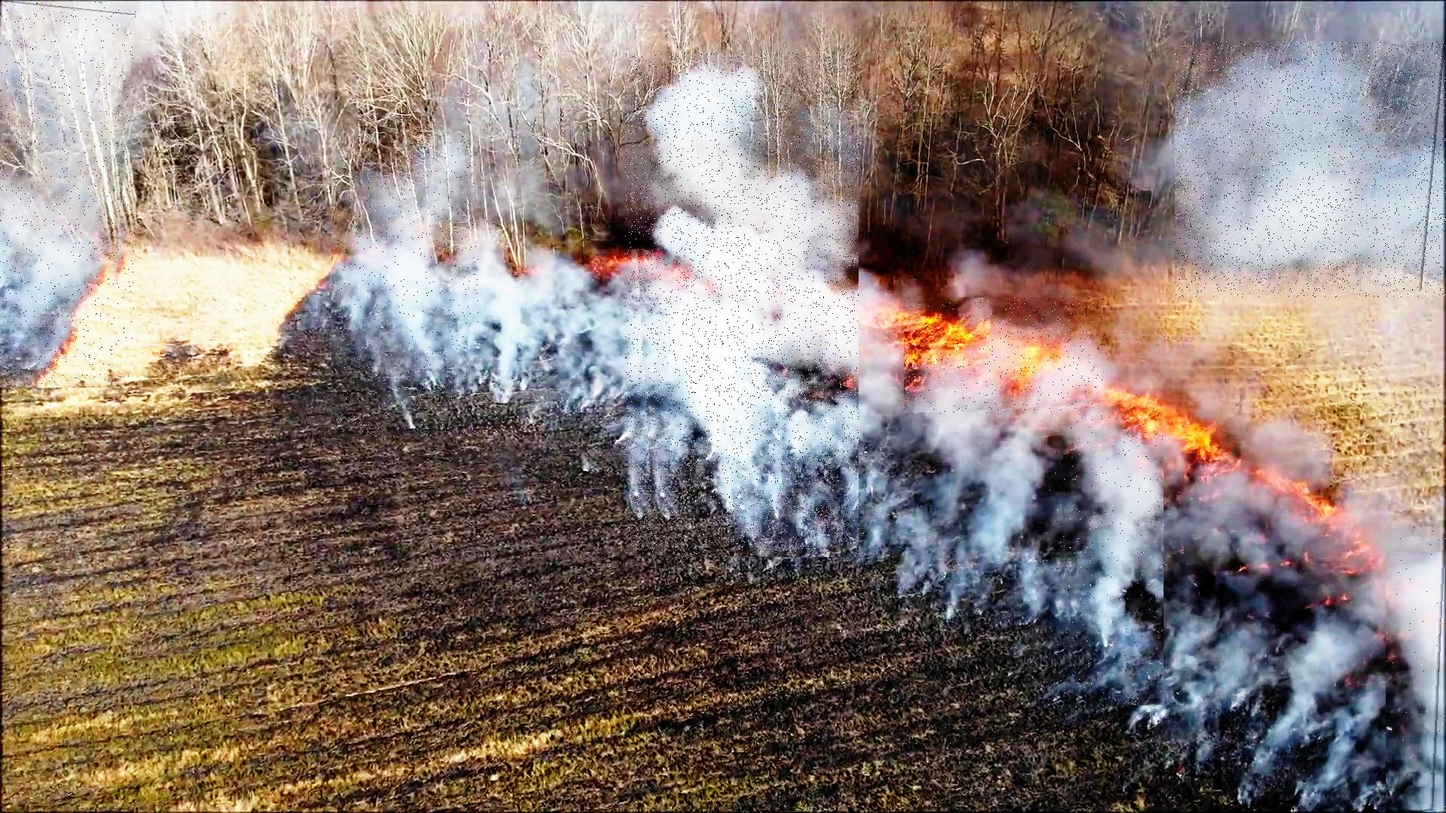fire: (904, 297, 1103, 414)
smoke: (625, 53, 859, 557), (1175, 41, 1446, 297), (0, 0, 136, 388), (331, 136, 478, 437), (1054, 406, 1164, 708), (1386, 527, 1446, 813)
